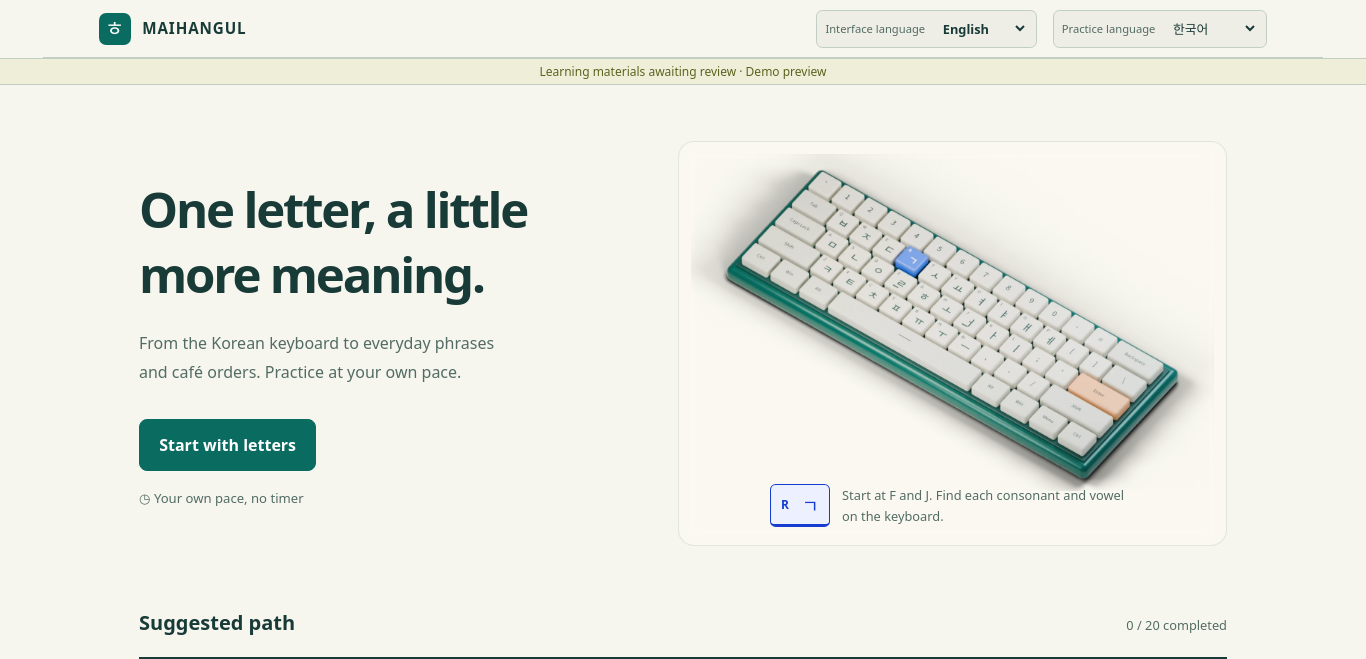
Test: treats the physical R cue as guidance and keeps Korean ㄱ as the actual answer
The image size is (1366, 659).
Click the button "Start with letters".
click(228, 445)  # box [139,419,316,471]
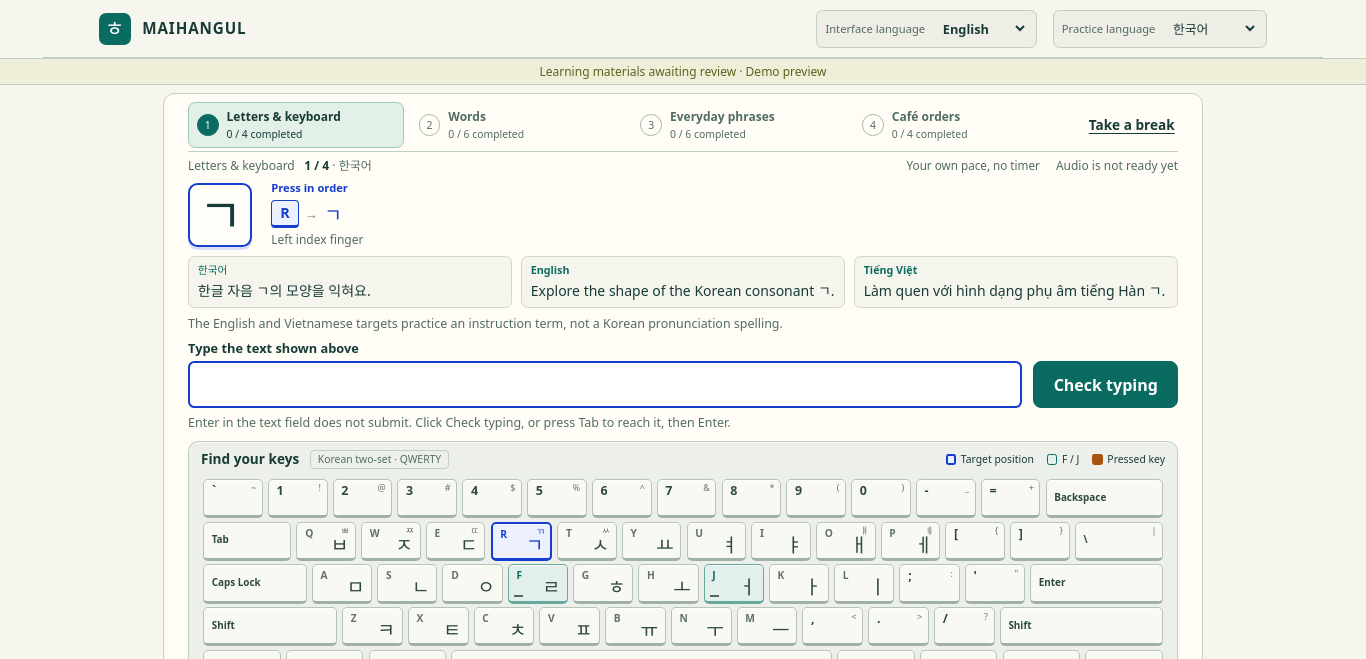
Now the element "Press in order" is shown, box [280,203,290,222]
Now the element "Press in order" shows "ㄱ", box [324,201,342,228]
Now the element "Press in order" shows "Left index finger", box [271,231,364,248]
Type "R" into the field.
click(605, 384); type("R")  # box [188,361,1022,408]
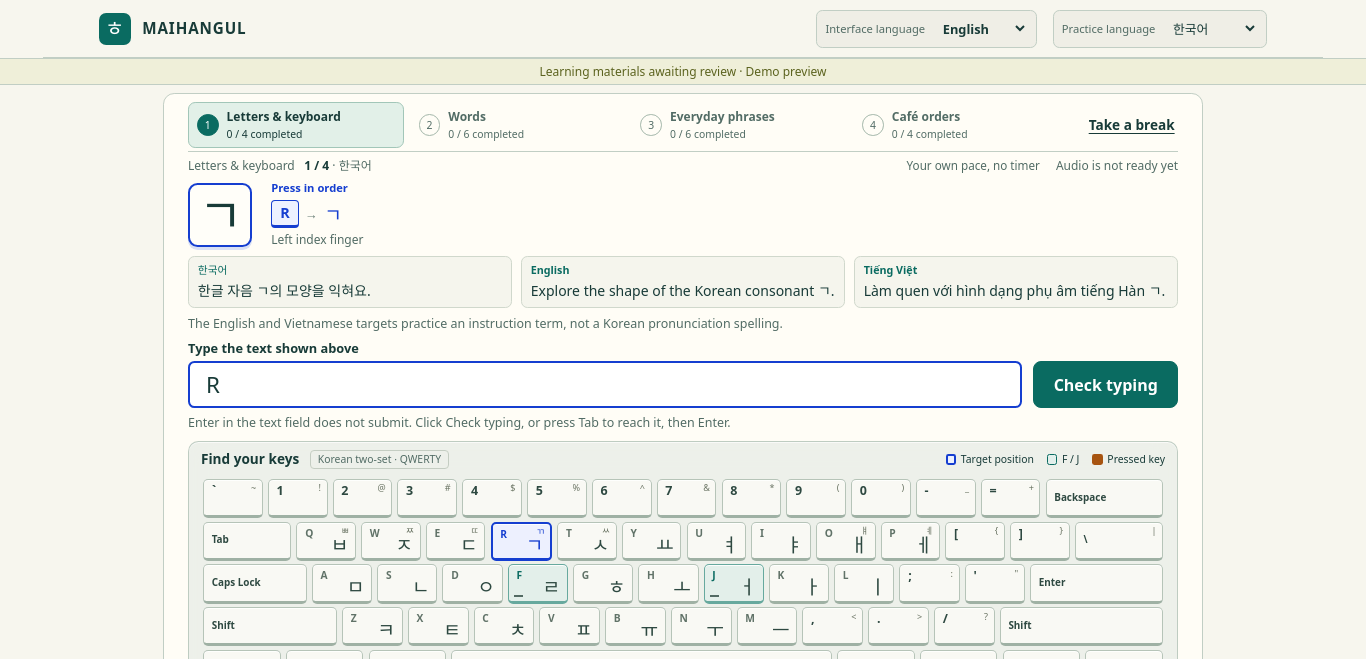
Click the button "Check typing".
click(1106, 384)  # box [1034,361,1178,408]
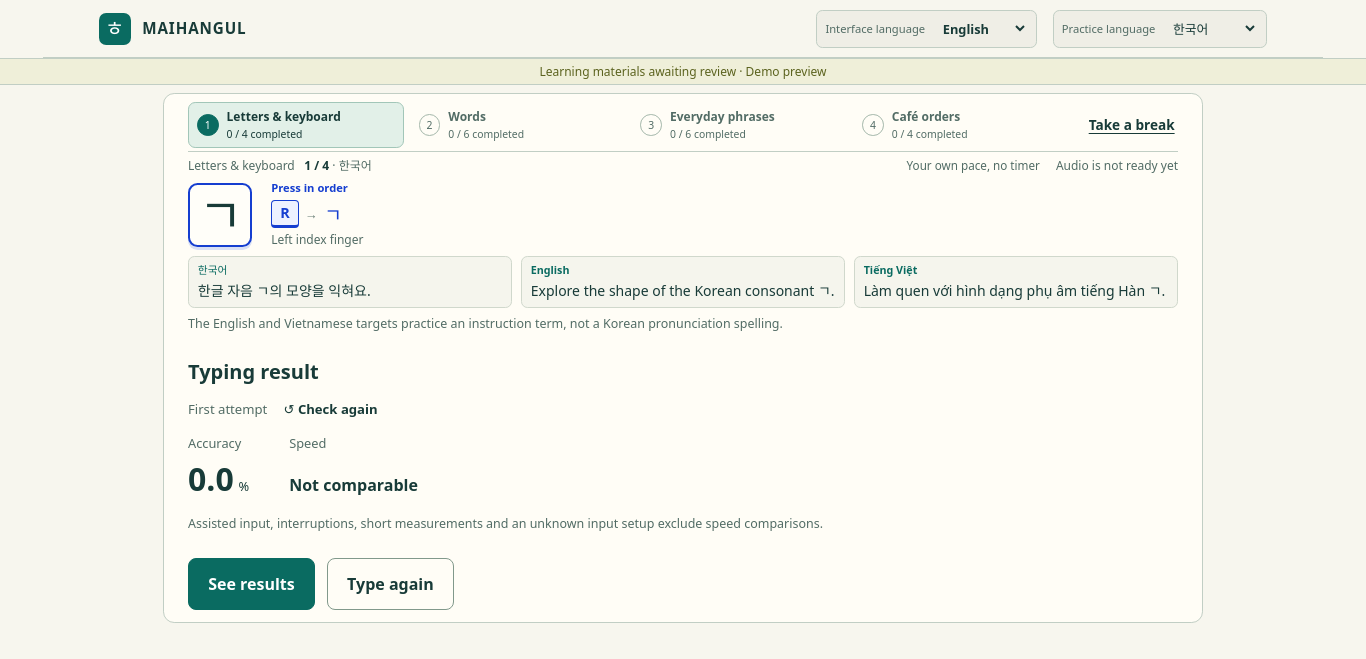
Now the element with class "typing-score" shows "Check again", box [284,400,378,418]
Now the element with class "typing-score" shows "0.0%", box [188,400,823,532]
